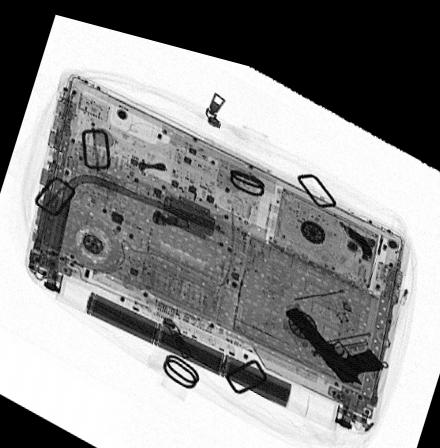Gun: (285, 290, 387, 367)
